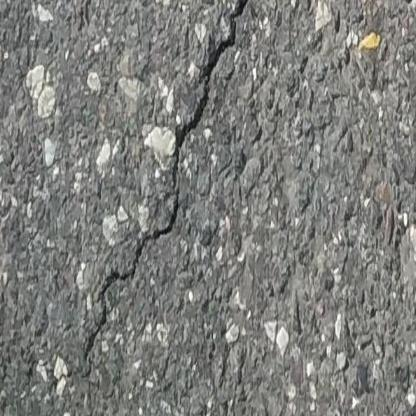Cracks: (84, 0, 264, 358)
